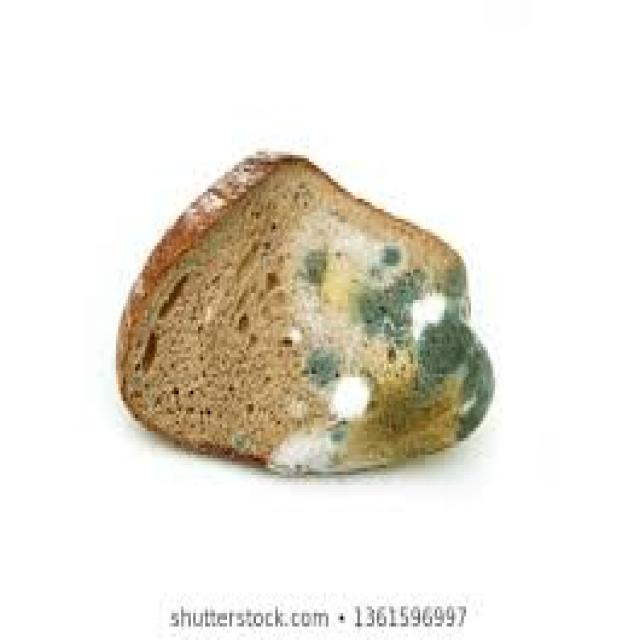organic waste: (114, 148, 492, 475)
